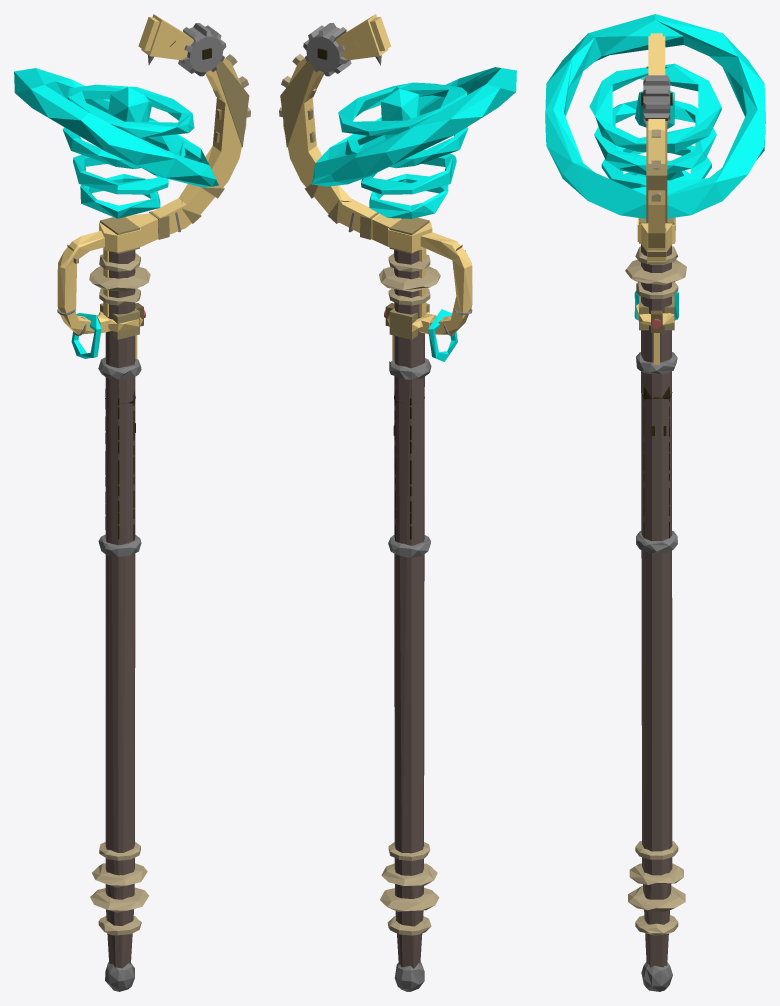
Rendered from wep_staff3.glb.
3 renders of one model, left to right at view 1: azimuth 30°, elevation 25°; view 2: azimuth 150°, elevation 25°; view 3: azimuth 270°, elevation 25°, orthographic.
Visible parts, largest first — view 1: polySurface1_Staff_Maroon_0, Lightning_Sphere_Thunder_0, Light_Brass_Base_Brass_0, Brass_Handle_Rings_Light_Brass_0, Dark_Brass_Decorum_Brass_Yellow_0, Rubber_Gear_Rubber_0, Rubber_Gear_Burnt_Gray_0, Gear_Base_Electrical_Tape_0; view 2: polySurface1_Staff_Maroon_0, Lightning_Sphere_Thunder_0, Light_Brass_Base_Brass_0, Brass_Handle_Rings_Light_Brass_0, Dark_Brass_Decorum_Brass_Yellow_0, Rubber_Gear_Rubber_0, Rubber_Gear_Burnt_Gray_0, Gear_Base_Electrical_Tape_0; view 3: Lightning_Sphere_Thunder_0, polySurface1_Staff_Maroon_0, Brass_Handle_Rings_Light_Brass_0, Light_Brass_Base_Brass_0, Rubber_Gear_Rubber_0, Dark_Brass_Decorum_Brass_Yellow_0, Rubber_Gear_Burnt_Gray_0, Gear_Base_Electrical_Tape_0.
Part boxes in pixels (left/top/right/bottom): polySurface1_Staff_Maroon_0: left=105, top=250, right=135, bottom=968; Lightning_Sphere_Thunder_0: left=14, top=68, right=218, bottom=358; Light_Brass_Base_Brass_0: left=57, top=14, right=246, bottom=358; Brass_Handle_Rings_Light_Brass_0: left=73, top=54, right=250, bottom=935; Dark_Brass_Decorum_Brass_Yellow_0: left=67, top=61, right=249, bottom=339; Rubber_Gear_Rubber_0: left=98, top=357, right=141, bottom=991; Rubber_Gear_Burnt_Gray_0: left=57, top=23, right=226, bottom=335; Gear_Base_Electrical_Tape_0: left=105, top=48, right=211, bottom=540; polySurface1_Staff_Maroon_0: left=394, top=250, right=424, bottom=968; Lightning_Sphere_Thunder_0: left=312, top=67, right=516, bottom=361; Light_Brass_Base_Brass_0: left=283, top=14, right=472, bottom=359; Brass_Handle_Rings_Light_Brass_0: left=279, top=54, right=465, bottom=935; Dark_Brass_Decorum_Brass_Yellow_0: left=280, top=61, right=462, bottom=339; Rubber_Gear_Rubber_0: left=388, top=358, right=431, bottom=991; Rubber_Gear_Burnt_Gray_0: left=303, top=23, right=472, bottom=335; Gear_Base_Electrical_Tape_0: left=317, top=48, right=424, bottom=540; Lightning_Sphere_Thunder_0: left=545, top=14, right=765, bottom=320; polySurface1_Staff_Maroon_0: left=641, top=244, right=672, bottom=967; Brass_Handle_Rings_Light_Brass_0: left=625, top=129, right=686, bottom=935; Light_Brass_Base_Brass_0: left=636, top=33, right=675, bottom=365; Rubber_Gear_Rubber_0: left=636, top=352, right=677, bottom=991; Dark_Brass_Decorum_Brass_Yellow_0: left=639, top=121, right=674, bottom=330; Rubber_Gear_Burnt_Gray_0: left=643, top=75, right=670, bottom=124; Gear_Base_Electrical_Tape_0: left=641, top=92, right=672, bottom=537.
Size of the model in its own units: 0.0786 by 0.3314 by 0.0679.
